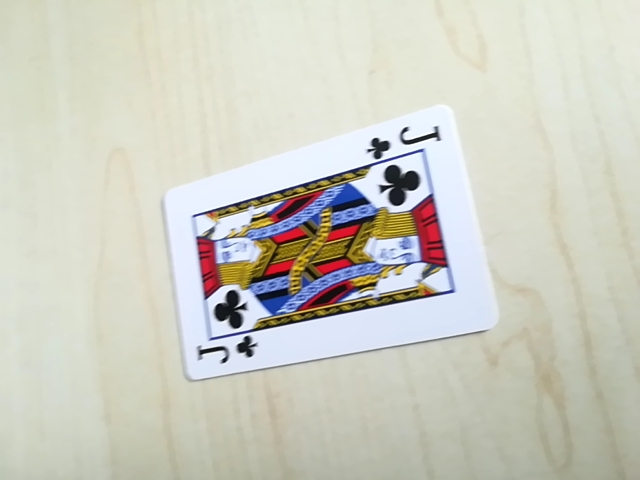mh j: (363, 123, 450, 161), (193, 327, 259, 374)
